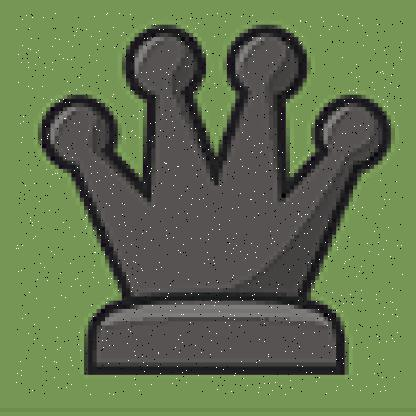Black Queen: (16, 13, 404, 396)
